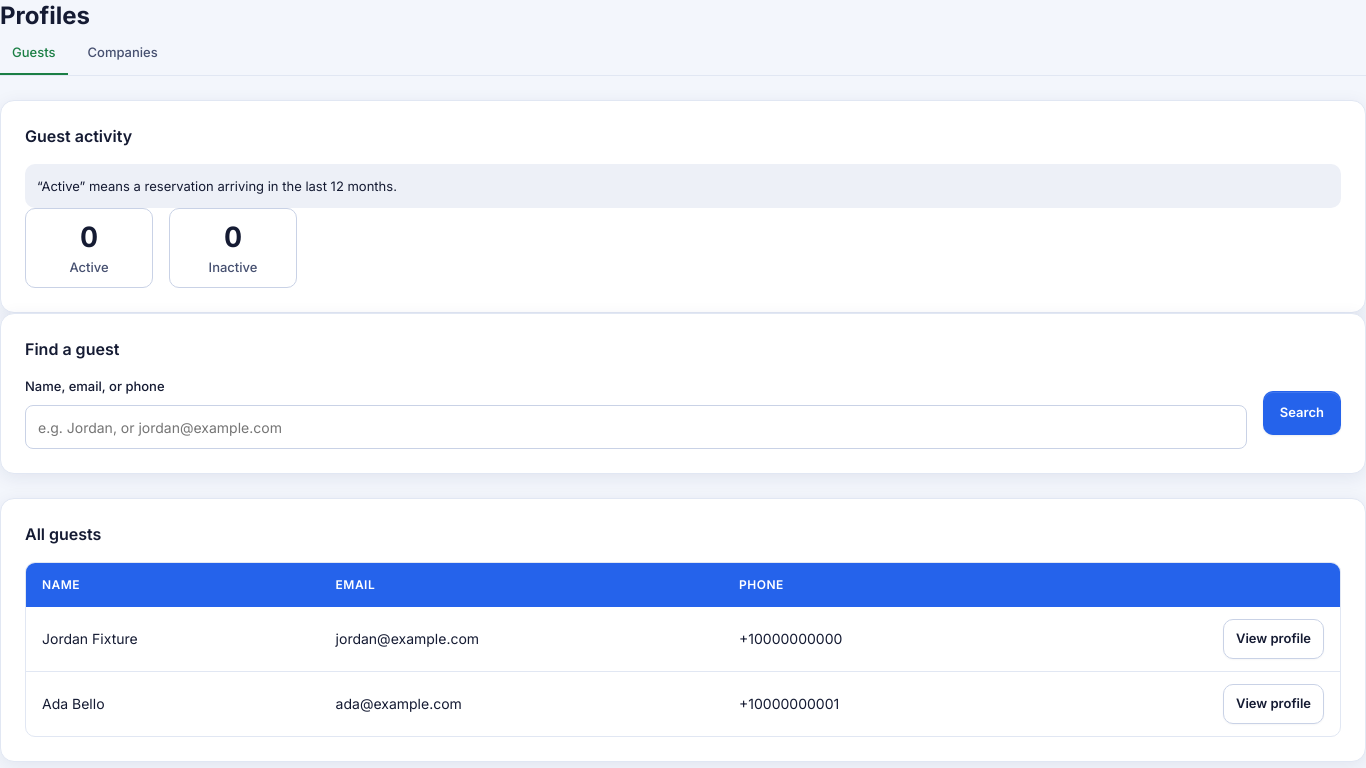
Test: <ProfilesScreen> › "Show all guests" clears the search and returns to the full list
Expected: the text "ada@example.com" is shown, [320, 671, 723, 736]
Type "Jordan" into the field labelled "Name, email, or phone". click: (636, 427)
box: [25, 405, 1247, 449]
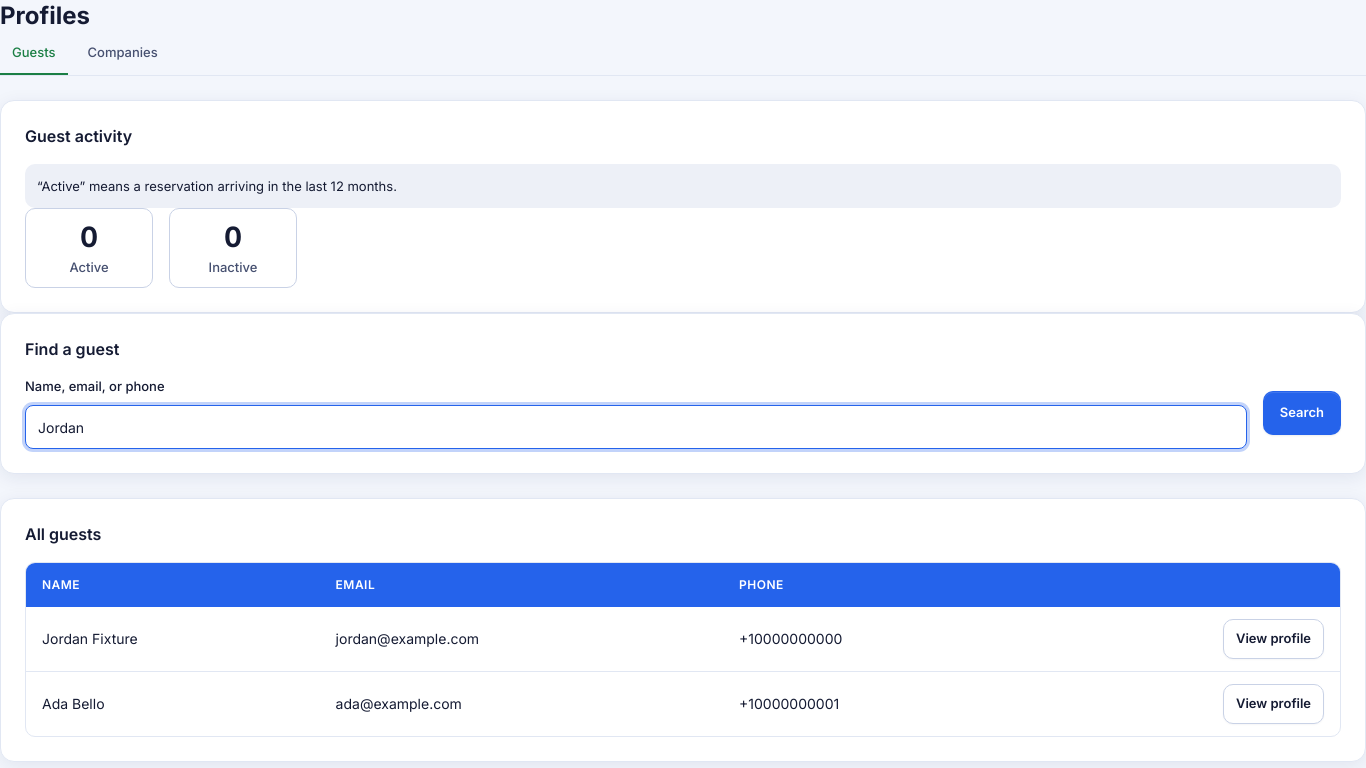
Click the button "Search". click: click(1302, 413)
box: [1263, 391, 1341, 435]
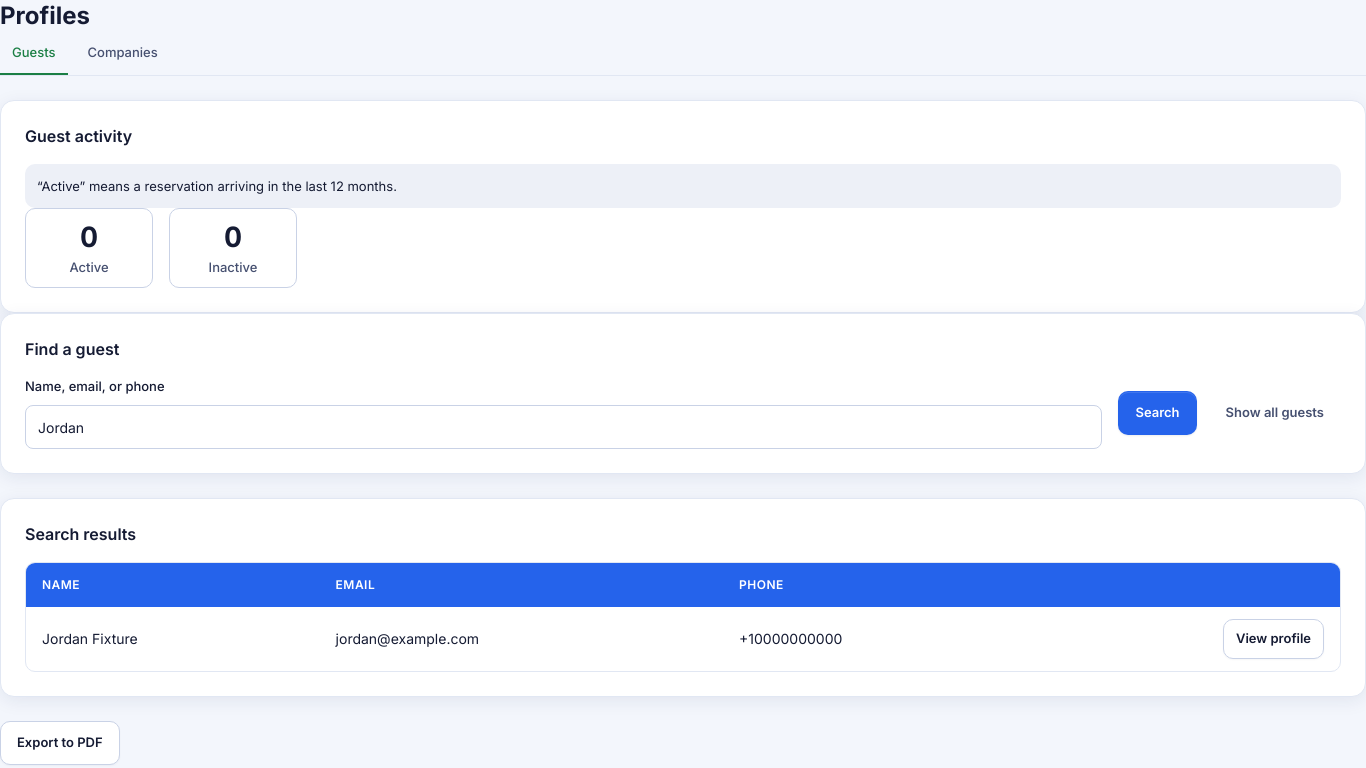
Expected: the heading "Search results" is shown, [25, 524, 136, 544]
Click the button "Show all guests". click: click(1275, 413)
box: [1209, 391, 1341, 435]
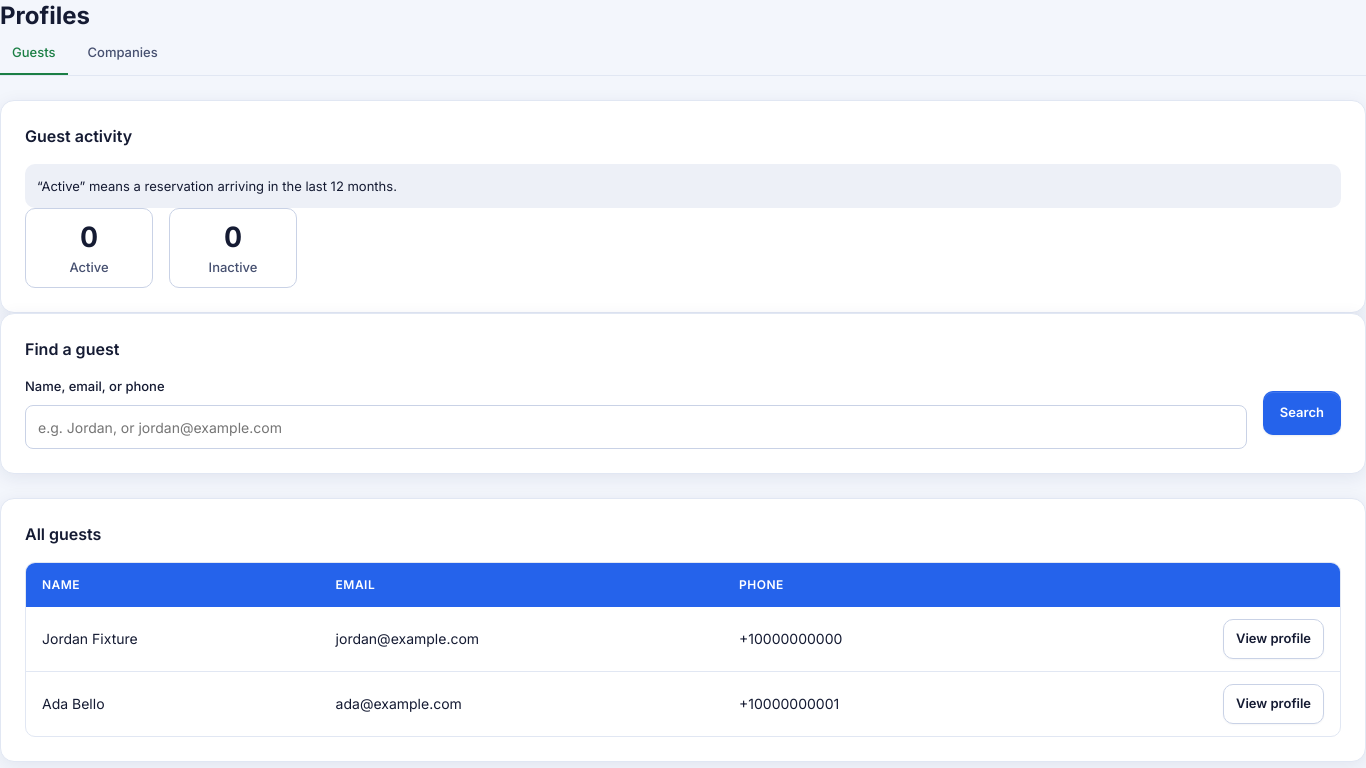
Expected: the heading "All guests" is shown, [25, 524, 101, 544]
Expected: the text "ada@example.com" is shown, [320, 671, 723, 736]
